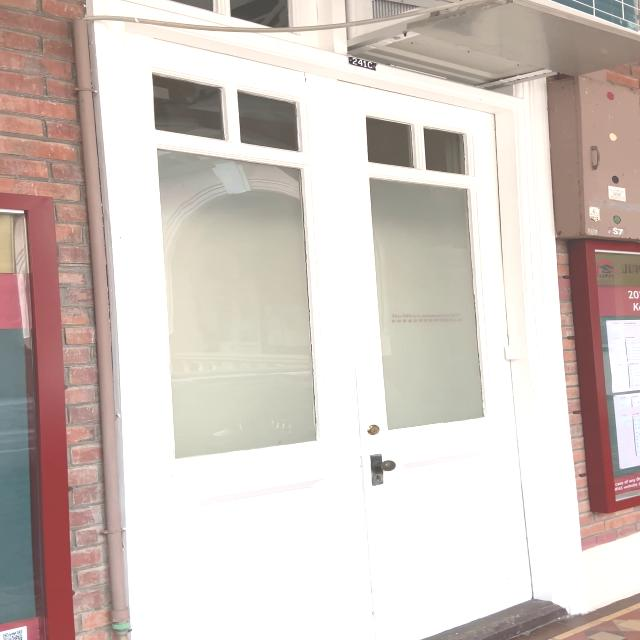room241c: (344, 55, 378, 71)
